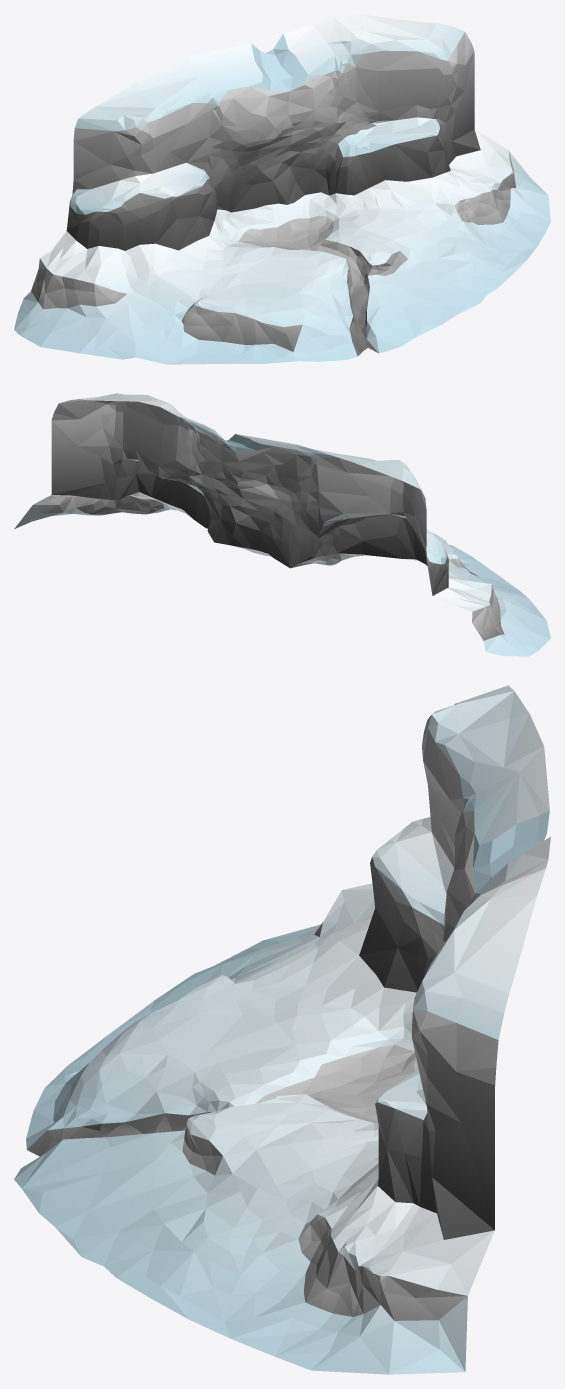
Rendered from Cliff_4.FBX.
3 renders of one model, top to bottom at view 1: azimuth 30°, elevation 25°; view 2: azimuth 150°, elevation 25°; view 3: azimuth 270°, elevation 25°, orthographic. The views are drawn at different scales.
Parts seen in each view (by area): view 1: Cliff_4; view 2: Cliff_4; view 3: Cliff_4.
Boxes of the visible parts, x1,y1,x2,y2 form: Cliff_4: [14, 14, 550, 364]; Cliff_4: [14, 393, 550, 656]; Cliff_4: [14, 685, 550, 1374].
Bounding box in the file's own units: 189 × 71.35 × 89.79.
